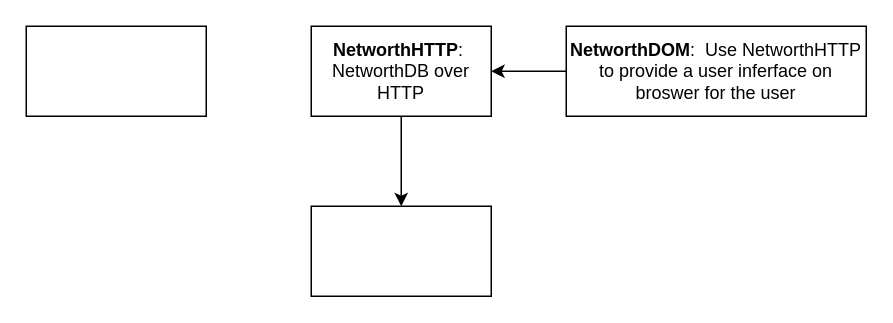
The diagram is 893 pixels wide and 323 high, and some of its shapes have lost their labels. Each missing label, with the centre of its shape:
.github : A meta repository for the project: (115,70)
NetworthDB : An library that converts data to SQL.: (400,250)
